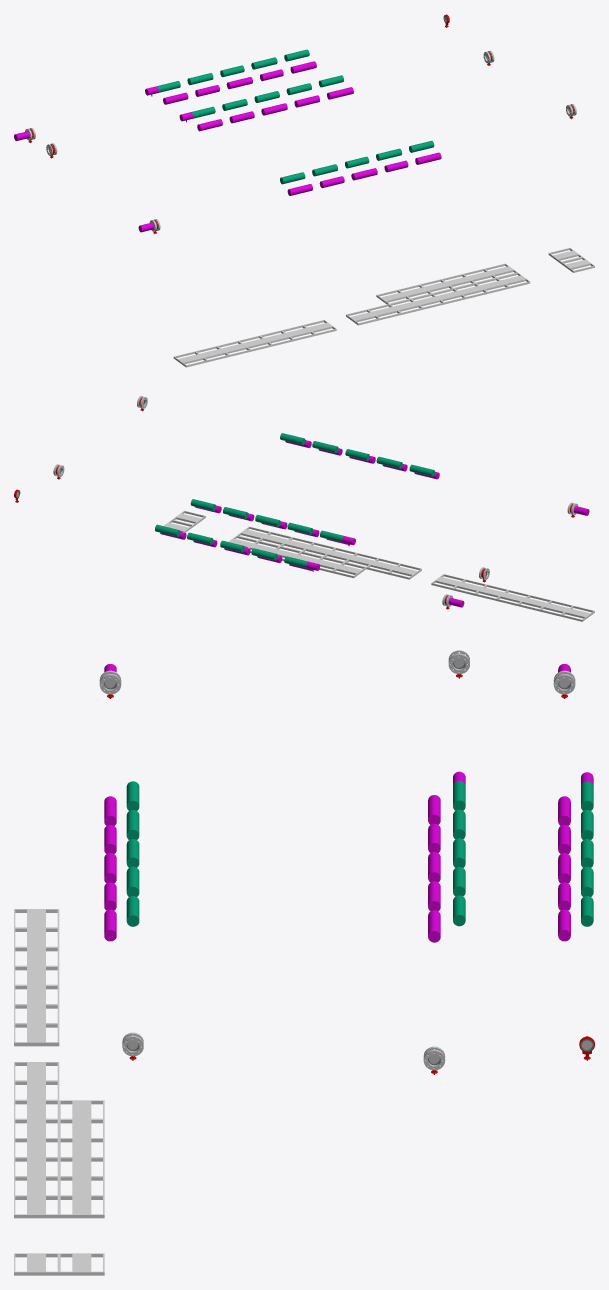
3 views of the same model, one above another, from view 1: azimuth 30°, elevation 25°; view 2: azimuth 150°, elevation 25°; view 3: azimuth 270°, elevation 25° (orthographic). The views are drawn at different scales.
Size of the model in its own units: 12.27 by 3.64 by 7.7.
